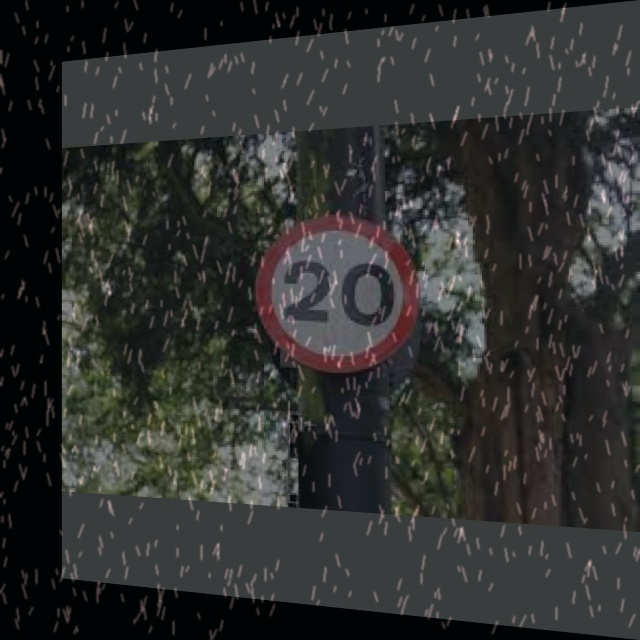Speed_Limit_20: (252, 213, 424, 373)
